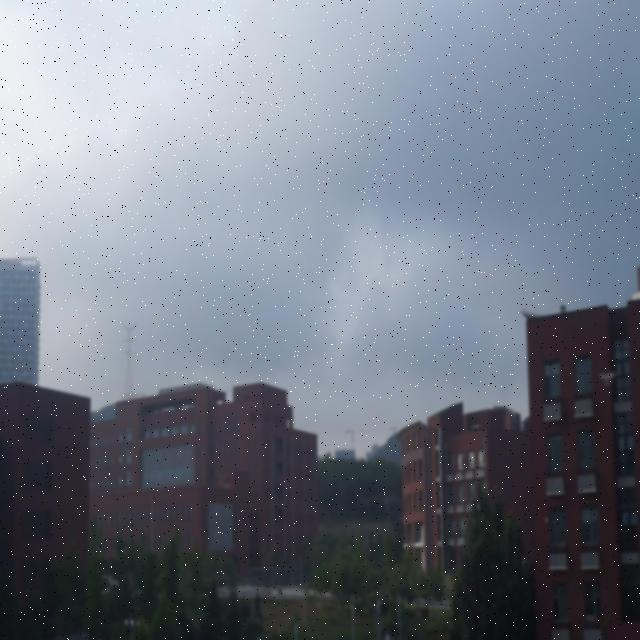UAV: (599, 372, 616, 385)
